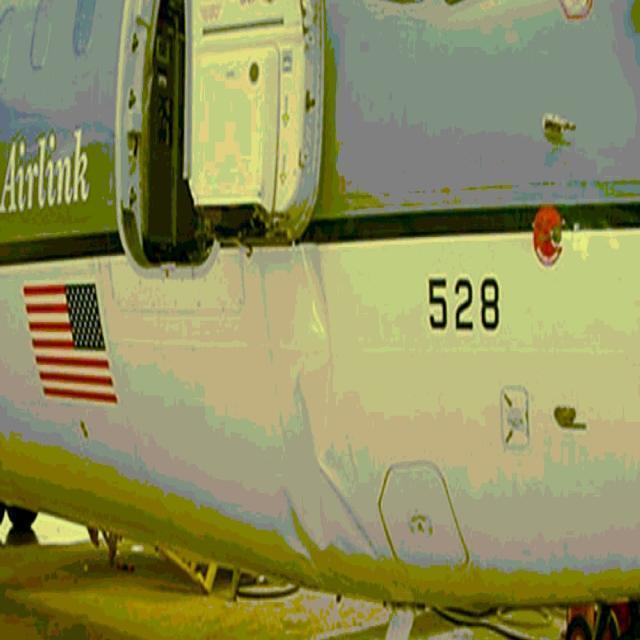dent: (280, 461, 376, 578)
